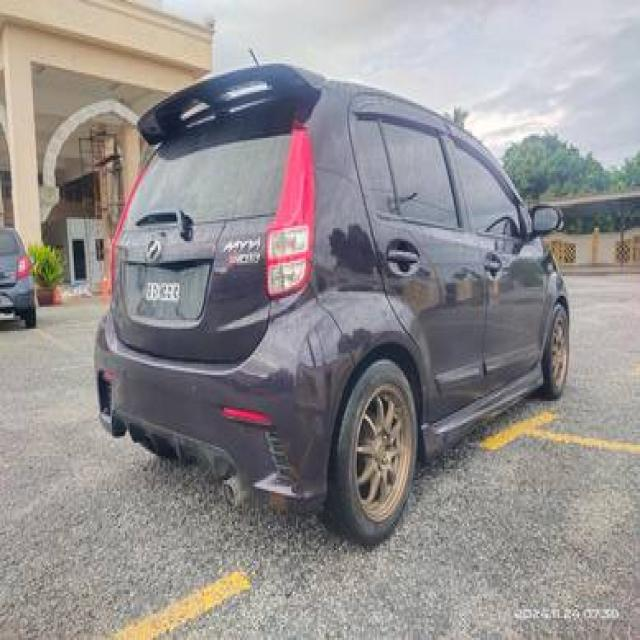PeroduaMyvi: (90, 52, 571, 546)
